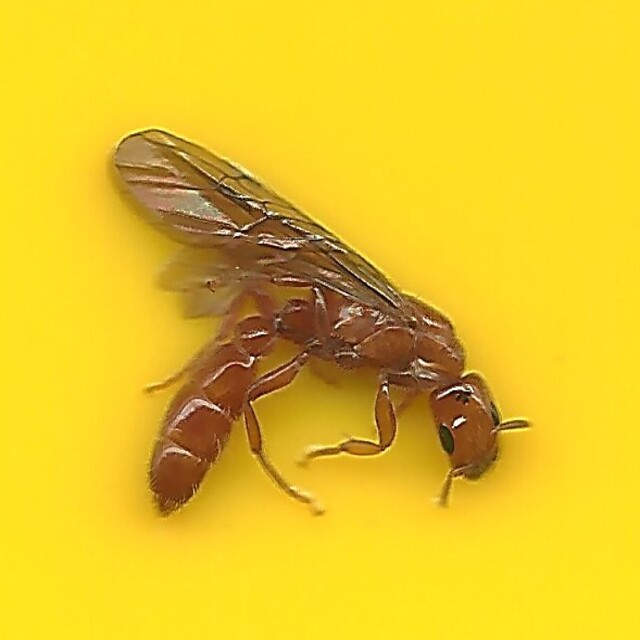Hymenoptera: (109, 124, 531, 516)
